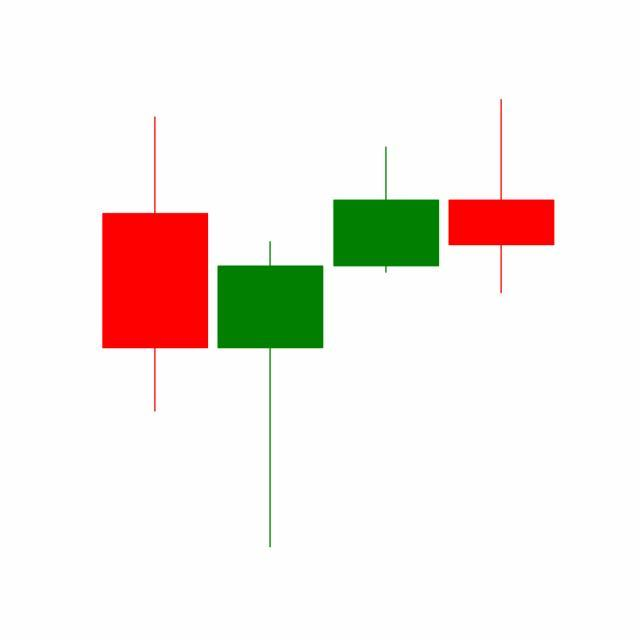Spinning Top: (444, 97, 560, 296)
